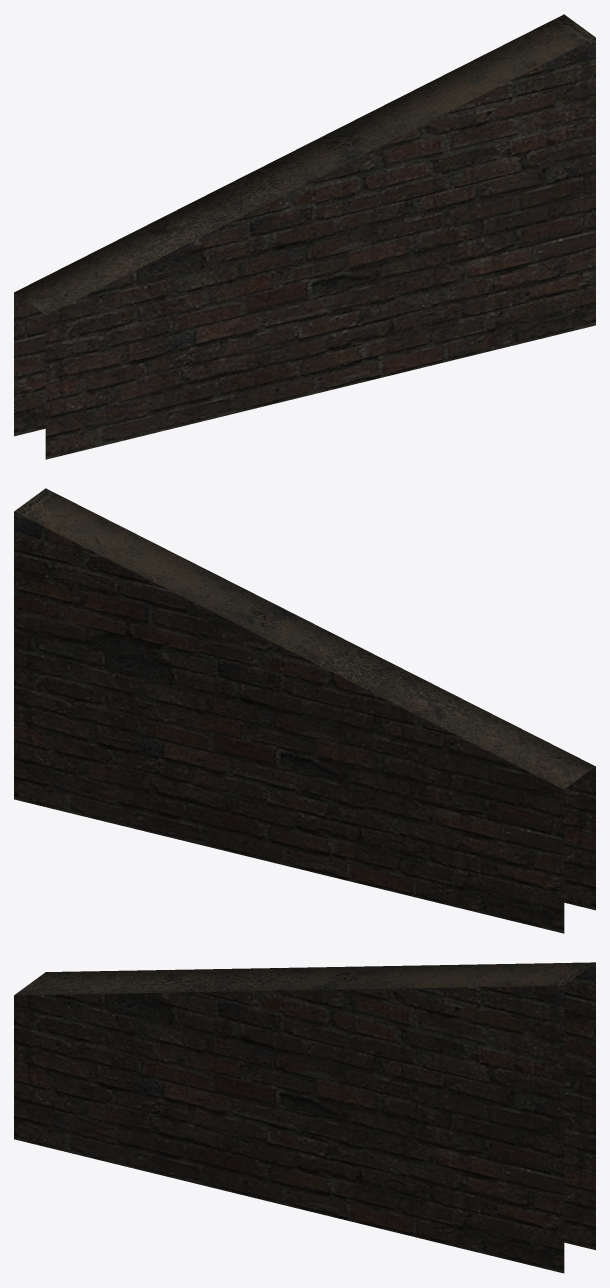
File: wall_top_part_hs_2.fbx
3 renders of one model, top to bottom at view 1: azimuth 30°, elevation 25°; view 2: azimuth 150°, elevation 25°; view 3: azimuth 330°, elevation 25°, orthographic.
Visible parts, largest first — view 1: wall_top_part_hs_2; view 2: wall_top_part_hs_2; view 3: wall_top_part_hs_2.
Boxes of the visible parts, x1,y1,x2,y2 form: wall_top_part_hs_2: [14, 14, 595, 459]; wall_top_part_hs_2: [14, 488, 595, 933]; wall_top_part_hs_2: [14, 962, 595, 1273].
Size of the model in its own units: 4 by 0.4 by 2.
